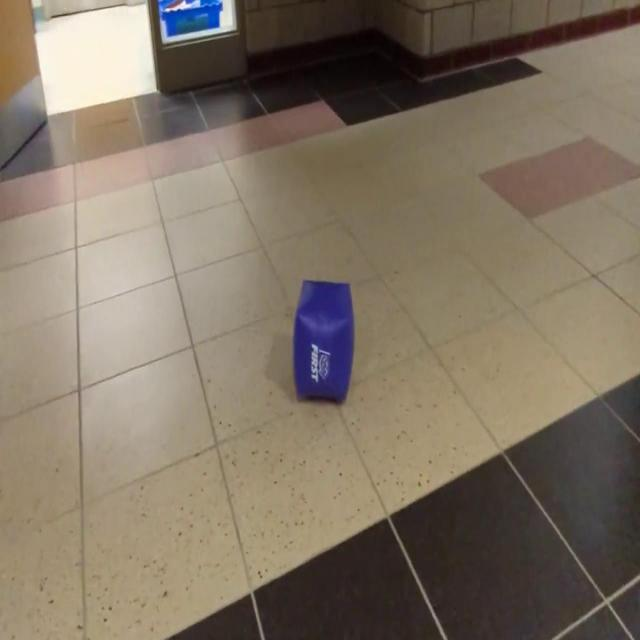frc_cube: (291, 280, 353, 402)
